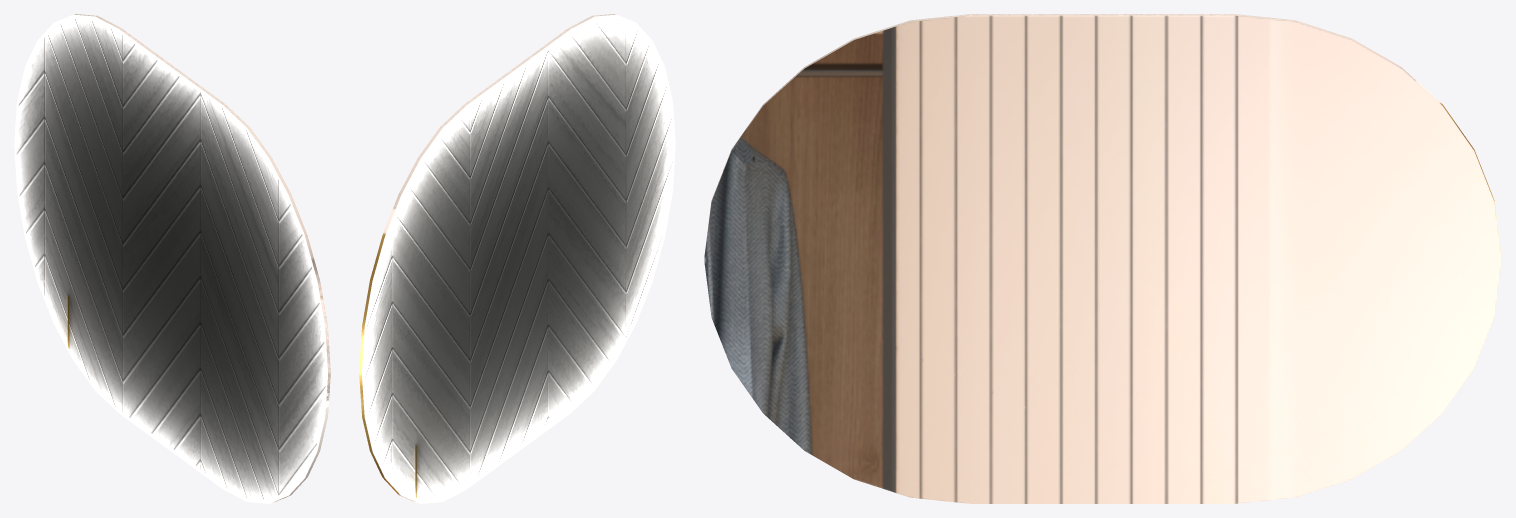
Rendered from bathroom_modernglam_mirror.glb.
The picture shows the model from 3 angles, left to right: view 1: azimuth 30°, elevation 25°; view 2: azimuth 150°, elevation 25°; view 3: azimuth 270°, elevation 25°; orthographic projection. The views are drawn at different scales.
Visible parts, largest first — view 1: Mirror; view 2: Mirror; view 3: Mirror.
Part boxes in pixels (<box>): Mirror: <box>14,14,330,503</box>; Mirror: <box>359,14,675,503</box>; Mirror: <box>704,14,1501,503</box>.
Size of the model in its own units: 0.00489 by 0.6908 by 1.02.
1 material, 1 textured.
